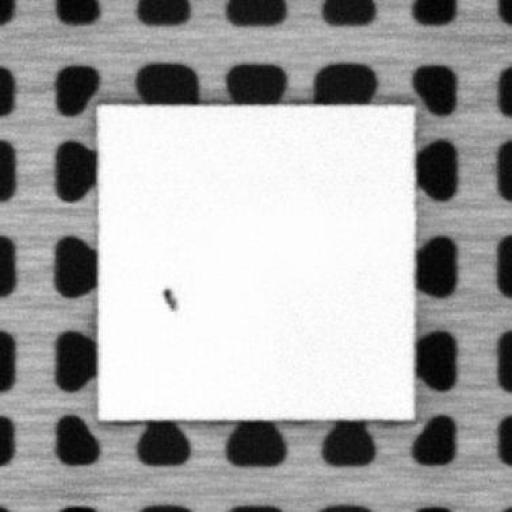DIE_INK: (160, 284, 180, 312)
